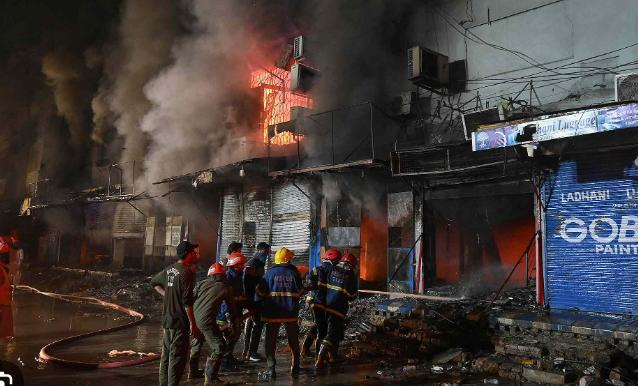fire: (218, 53, 329, 185), (360, 205, 389, 289)
smoke: (12, 0, 225, 232)
